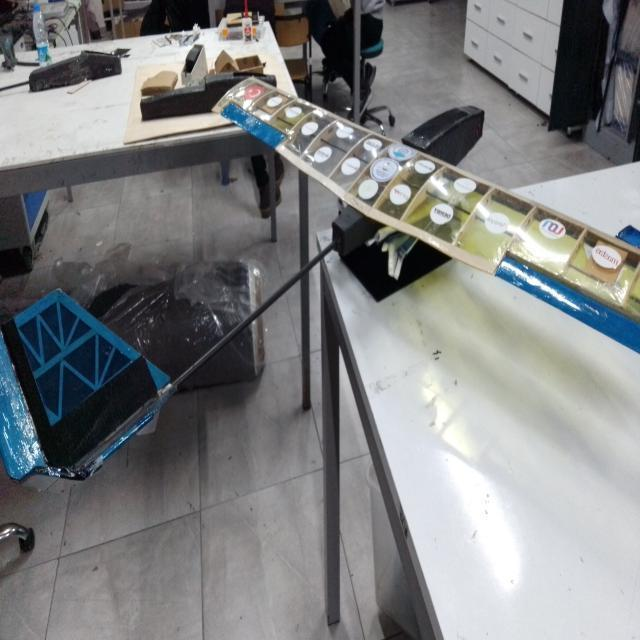iha: (1, 64, 639, 490)
